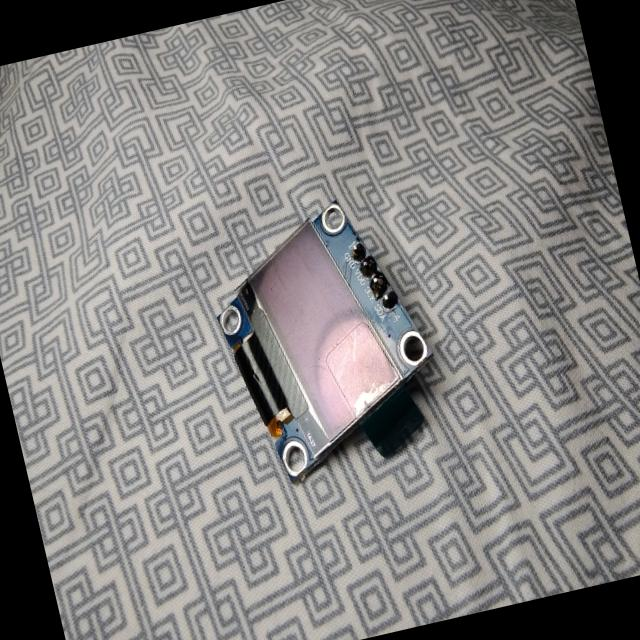oled: (196, 183, 467, 504)
